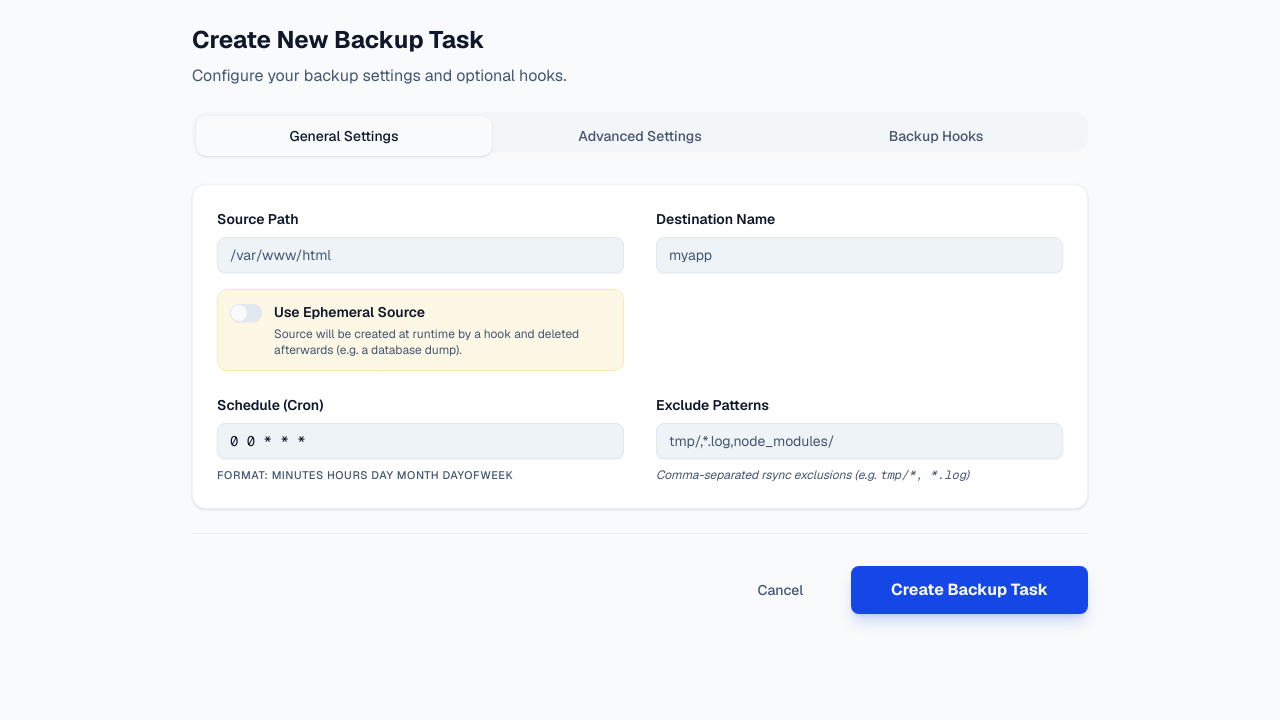
Test: CreateBackupForm › Form Submission › displays error message on submission failure
In the field labelled "Destination Name": coordinates (860, 255) [656,237,1063,273], type "backup"
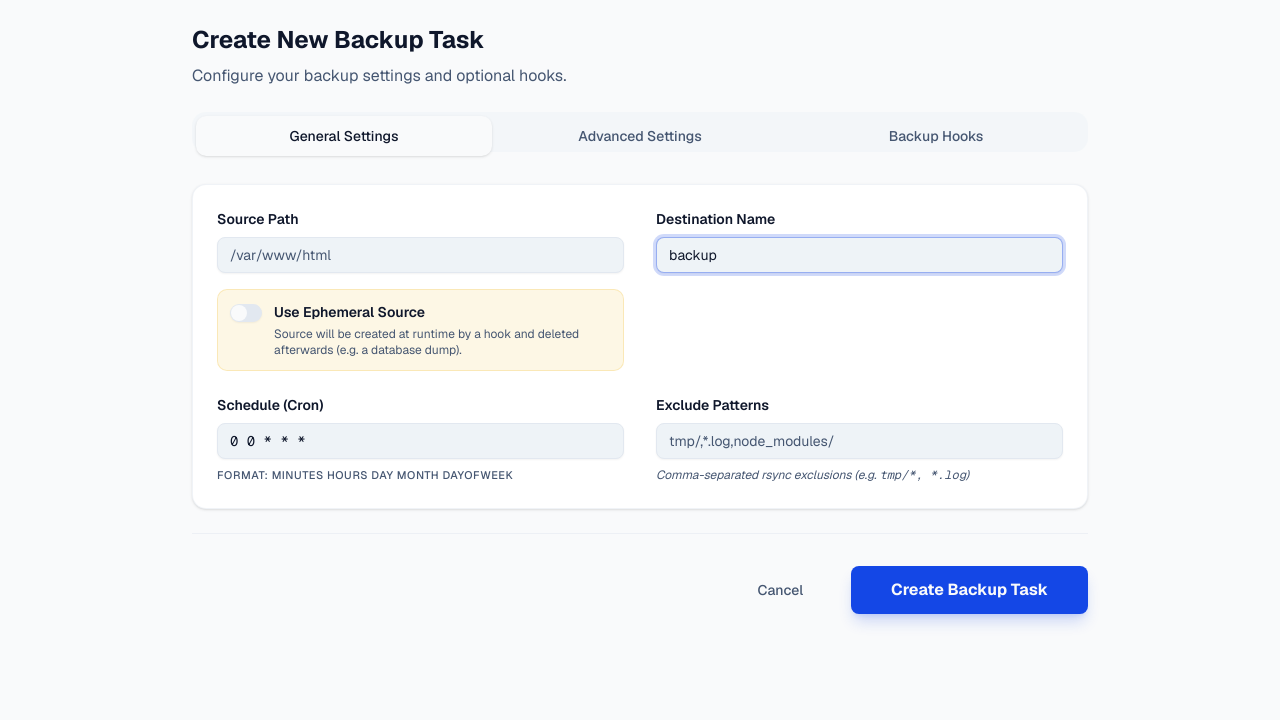
In the field labelled "Source Path": coordinates (420, 255) [217,237,624,273], type "/var/www"
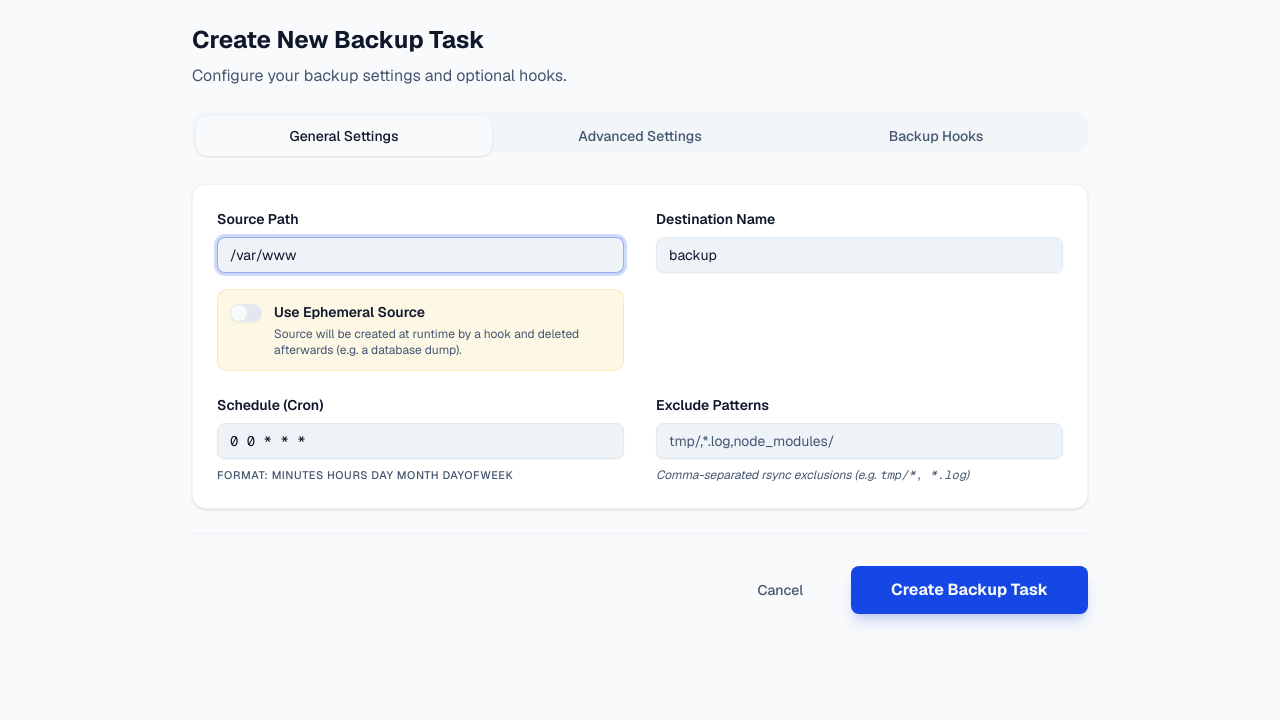
Click the button "Create Backup Task": coordinates (970, 590) [851,566,1088,614]
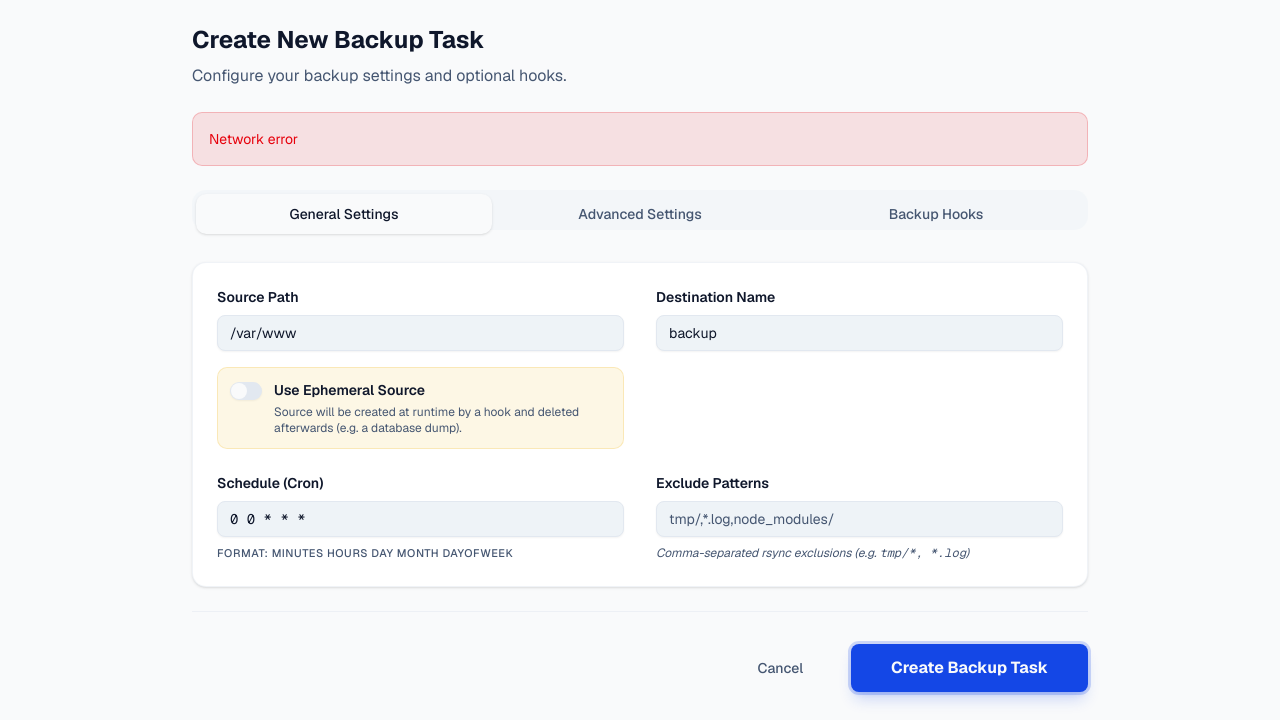
Check: the text "Network error" is shown, box [192,112,1088,166]
